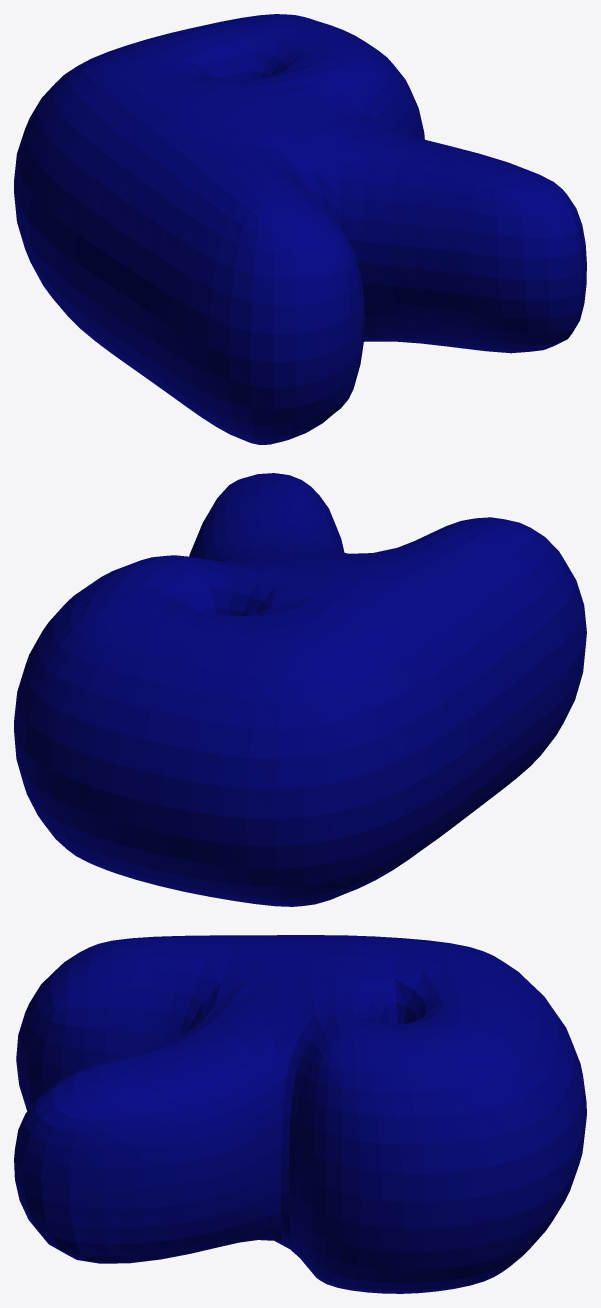
The picture shows the model from 3 angles, top to bottom: view 1: azimuth 30°, elevation 25°; view 2: azimuth 150°, elevation 25°; view 3: azimuth 270°, elevation 25°; orthographic projection. The views are drawn at different scales.
Size of the model in its own units: 0.7138 by 0.4819 by 0.964.
